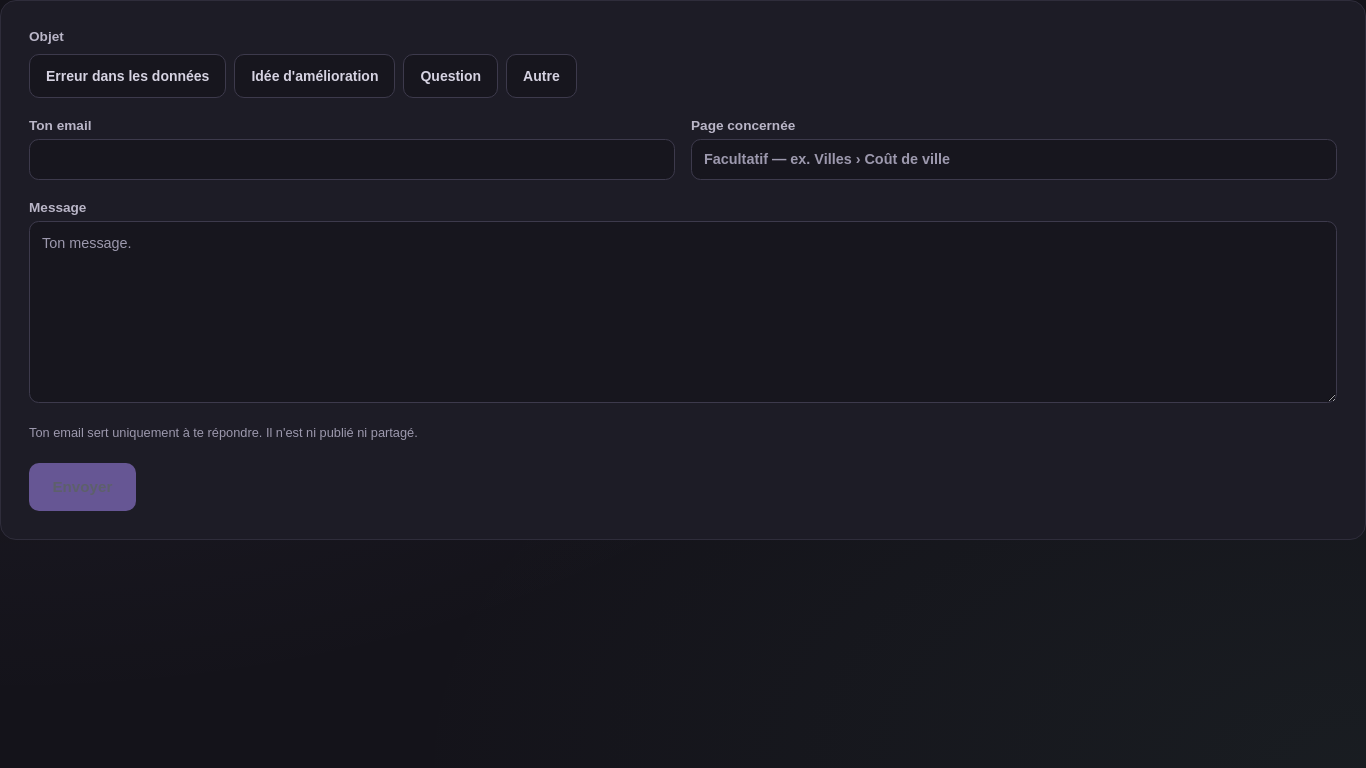
ContactForm › sends the form as JSON and shows a success message
This screenshot has width=1366, height=768.
Type "player@example.com" into the field labelled "Ton email" at (352,159), box [29,139,675,180]
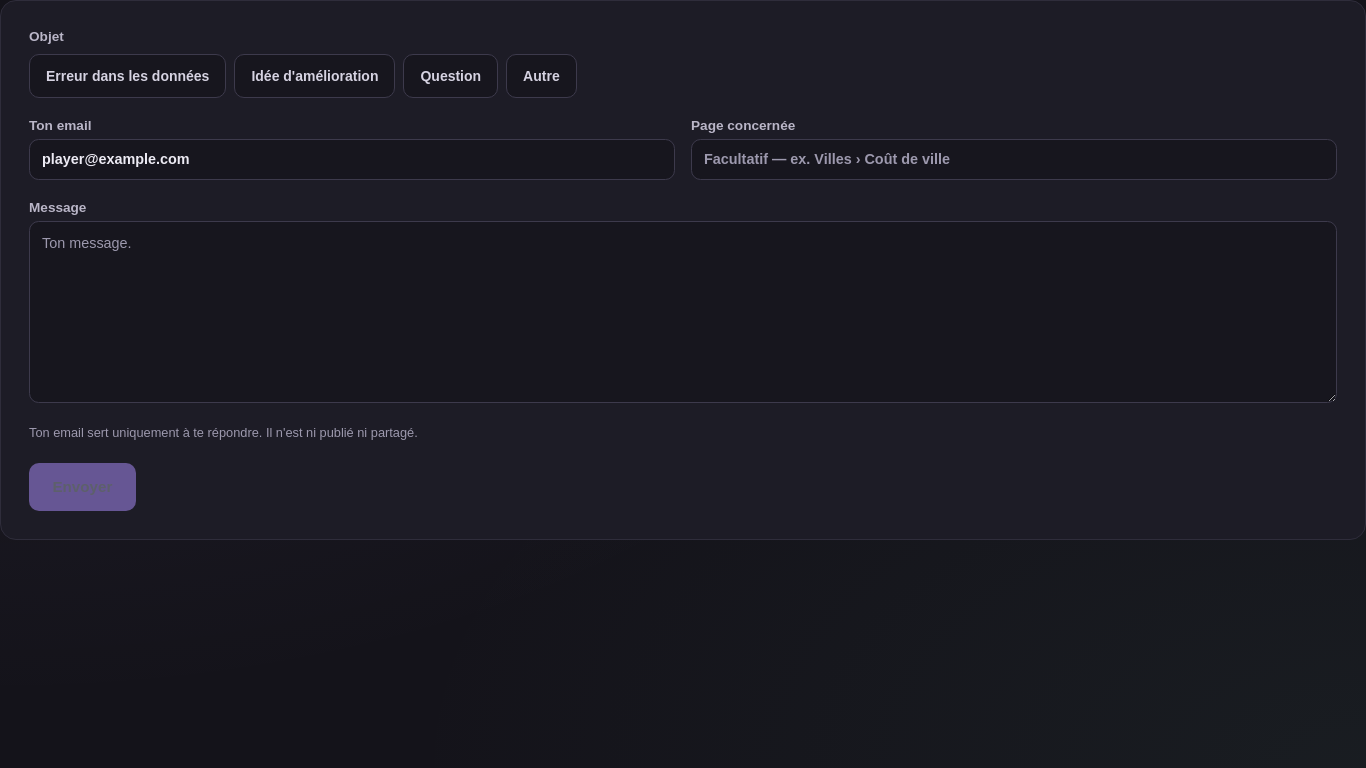
Click the button "Erreur dans les données" at (128,76), box [29,54,226,98]
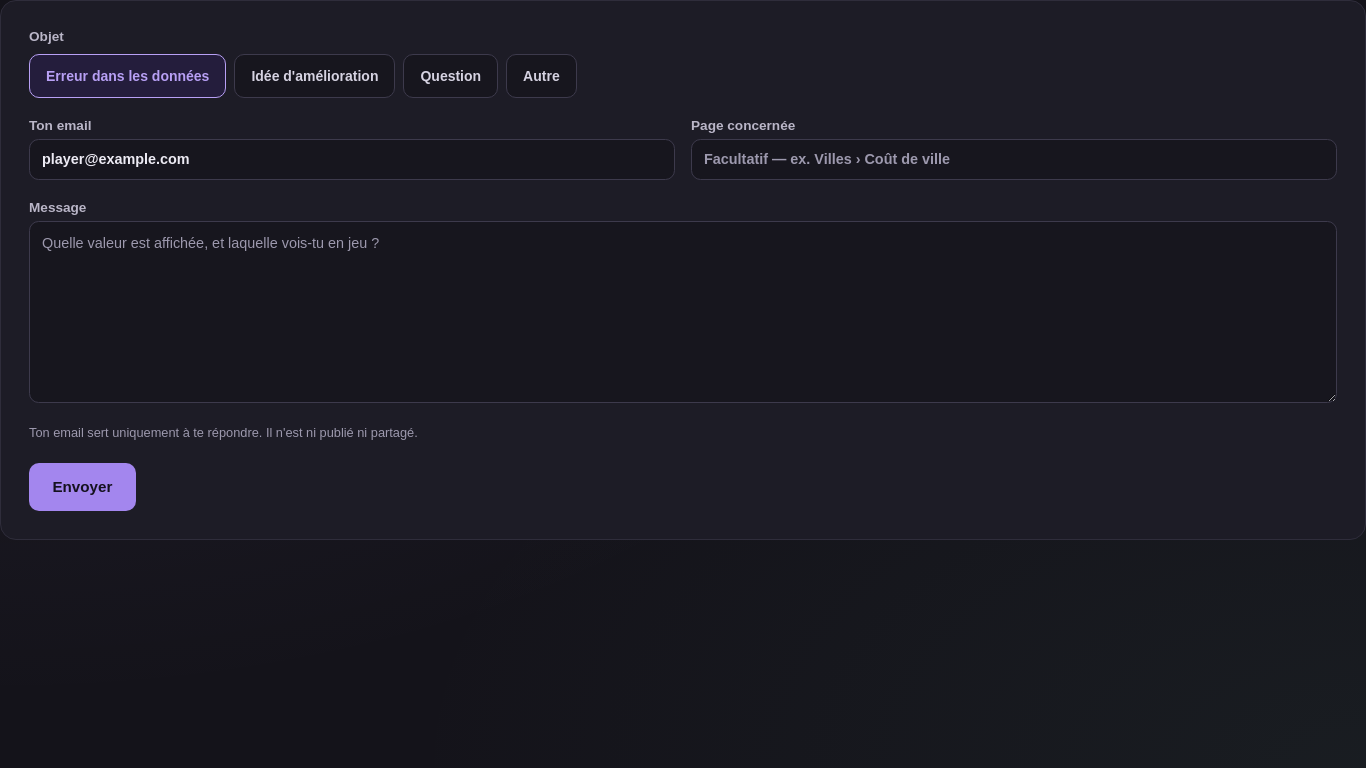
Type "Le taux d'XP semble faux." into the text box labelled "Message" at (683,312), box [29,221,1337,404]
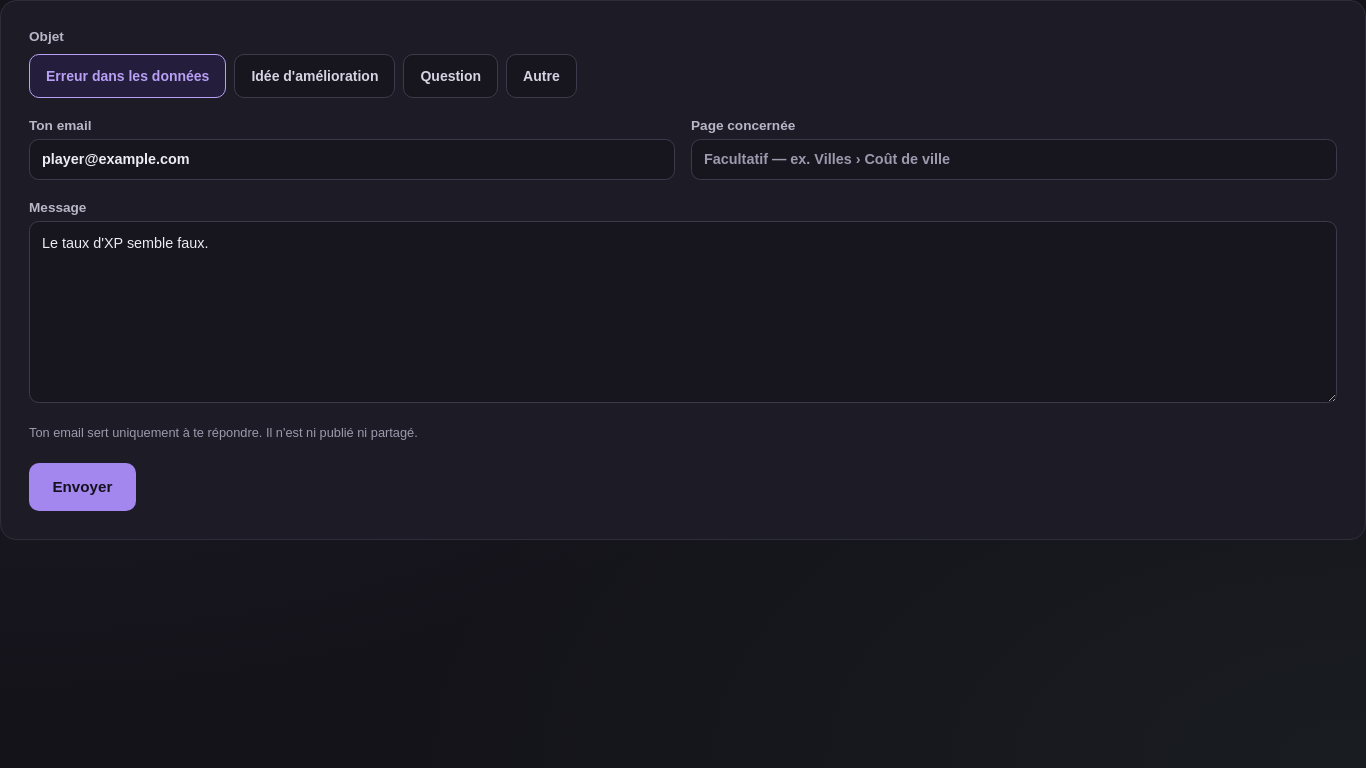
Click the button "Envoyer" at (82,487), box [29,463,136,511]
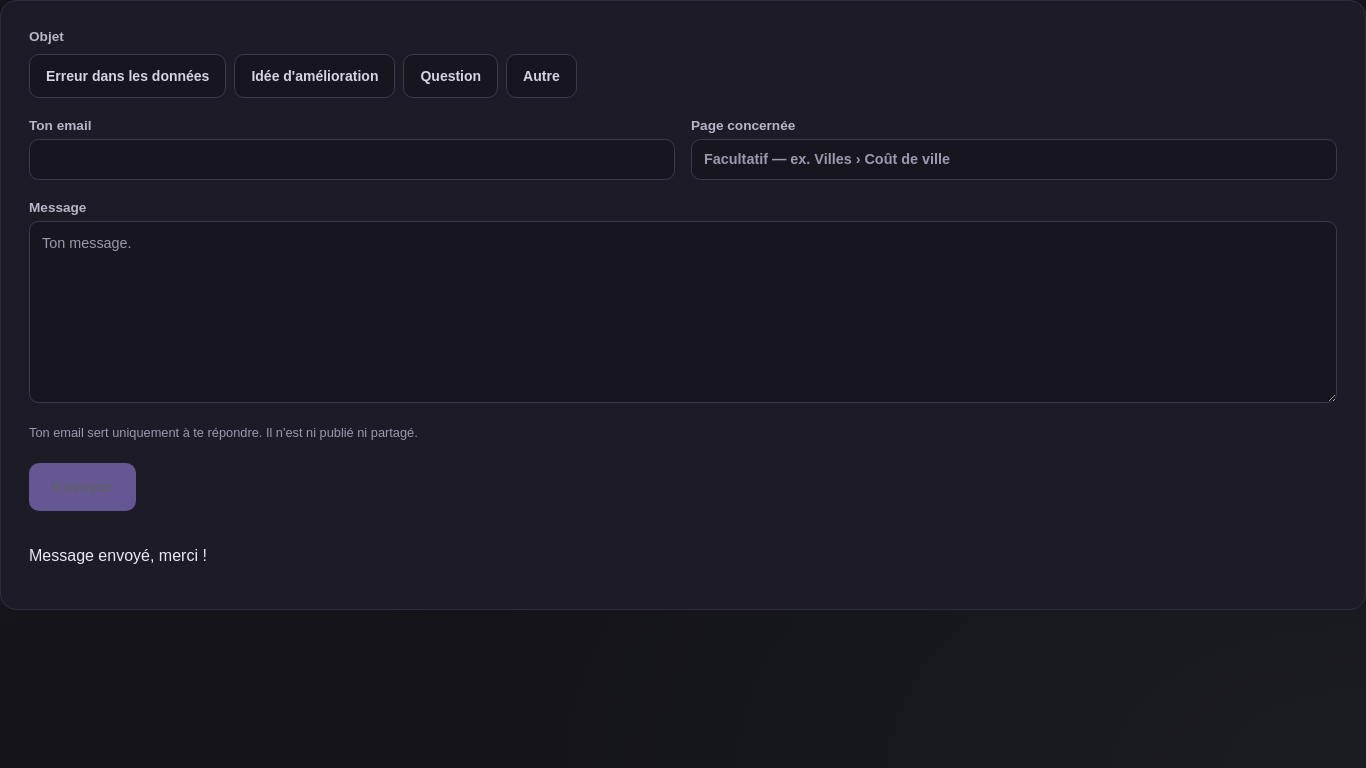
Expected: the message reads "Message envoyé, merci !", [29,547,207,564]
